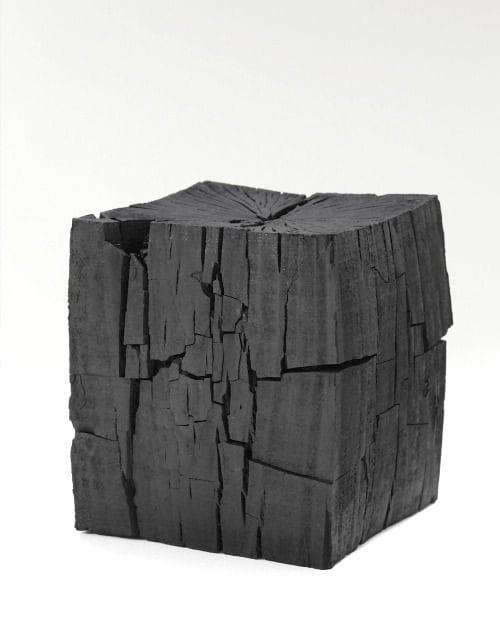cubos: (49, 164, 463, 584)
